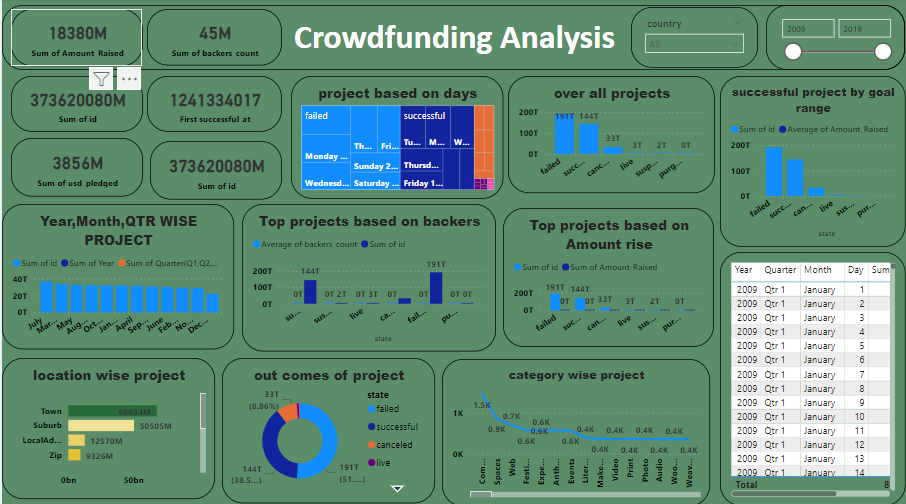

The dashboard page shown, as its layout file describes it:
{"tool":"tableau","page":{"name":"Dashboard 2","canvas":[1024,568],"ordinal":1},"visuals":[{"type":"dashboard-object","box":[8,8,171,52]},{"type":"image","param":"D:/DA/project 2 (P220)/Picture1.png","box":[179,8,425,100]},{"type":"worksheet","title":"TOTAL NO. OF PROJECT","mark":"Automatic","box":[604,8,113,100]},{"type":"worksheet","title":"COUNT OF BACKERS","mark":"Text","box":[717,8,94,100]},{"type":"worksheet","title":"TOTAL NO. OF LOCATION","mark":"Automatic","box":[811,8,91,100]},{"type":"worksheet","title":"TOTAL AMOUN","mark":"Automatic","box":[902,8,114,100]},{"type":"dashboard-object","box":[8,60,171,52]},{"type":"worksheet","title":"OUTCOME OF PROJECT","mark":"Pie","box":[179,108,418.5,226]},{"type":"worksheet","title":"LOCATION WISE PROJECT","mark":"Multipolygon","box":[597.5,108,418.5,226]},{"type":"filter","title":"COUNT OF BACKERS","param":"[federated.1hlrc2l0n2a86311llv1q1hjvrsu].[yr:Calculation_406449933332041730:ok]","box":[8,112,171,260]},{"type":"worksheet","title":"CATEGORY WISE PROJECT","mark":"Circle","rows":["id (Category)"],"cols":["name (Category)"],"box":[179,334,418.5,226]},{"type":"worksheet","title":"Successful projects by Goal Range ","mark":"Automatic","rows":["id","goal"],"cols":["state"],"box":[597.5,334,418.5,226]},{"type":"filter","title":"COUNT OF BACKERS","param":"[federated.1hlrc2l0n2a86311llv1q1hjvrsu].[tmn:Calculation_406449933332041730:ok]","box":[8,372,171,36]},{"type":"filter","title":"COUNT OF BACKERS","param":"[federated.1hlrc2l0n2a86311llv1q1hjvrsu].[wd:Calculation_406449933332041730:ok]","box":[8,408,171,47]},{"type":"filter","title":"COUNT OF BACKERS","param":"[federated.1hlrc2l0n2a86311llv1q1hjvrsu].[dy:Calculation_406449933332041730:ok]","box":[8,455,171,46]}]}

Visuals, with their boxes in screenshot pixels (x1, y1, x2, y2), scaled from the page's 1024x568 canvas onto the 906x504 screenshot:
dashboard-object: rect(7, 7, 158, 53)
image: rect(158, 7, 534, 96)
"TOTAL NO. OF PROJECT" worksheet: rect(534, 7, 634, 96)
"COUNT OF BACKERS" worksheet (Text marks): rect(634, 7, 718, 96)
"TOTAL NO. OF LOCATION" worksheet: rect(718, 7, 798, 96)
"TOTAL AMOUN" worksheet: rect(798, 7, 899, 96)
dashboard-object: rect(7, 53, 158, 99)
"OUTCOME OF PROJECT" worksheet (Pie marks): rect(158, 96, 529, 296)
"LOCATION WISE PROJECT" worksheet (Multipolygon marks): rect(529, 96, 899, 296)
"COUNT OF BACKERS" filter: rect(7, 99, 158, 330)
"CATEGORY WISE PROJECT" worksheet (Circle marks): rect(158, 296, 529, 497)
"Successful projects by Goal Range " worksheet: rect(529, 296, 899, 497)
"COUNT OF BACKERS" filter: rect(7, 330, 158, 362)
"COUNT OF BACKERS" filter: rect(7, 362, 158, 404)
"COUNT OF BACKERS" filter: rect(7, 404, 158, 445)
